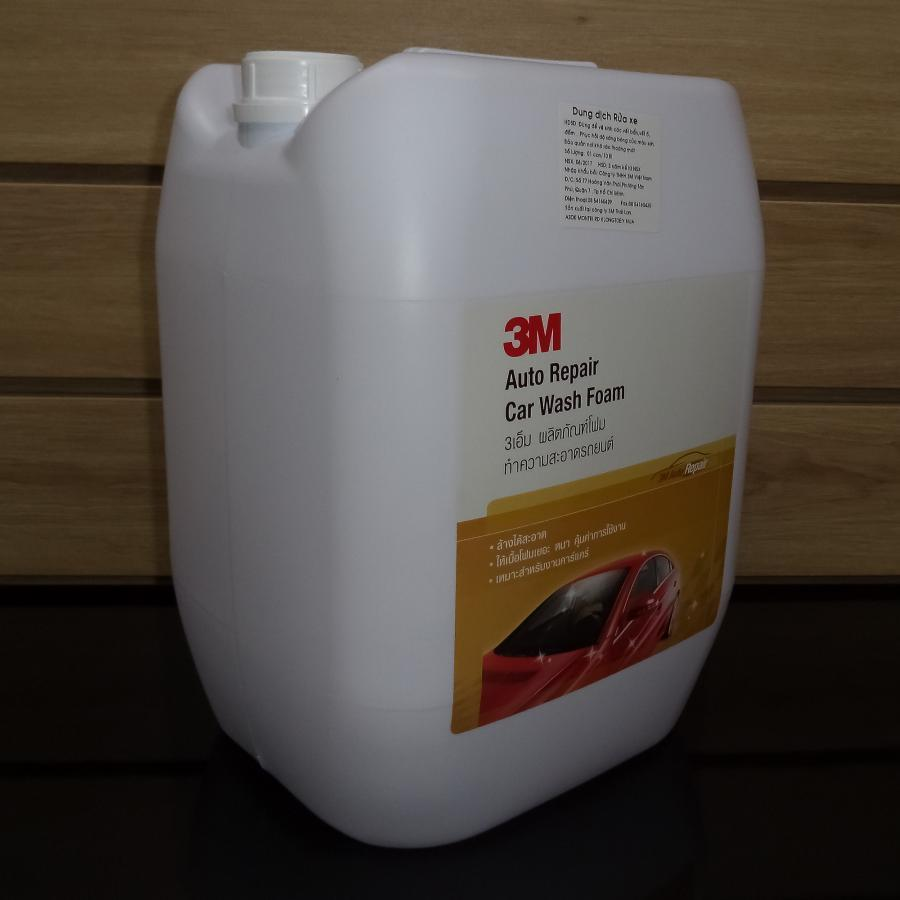3M: (500, 307, 565, 360)
